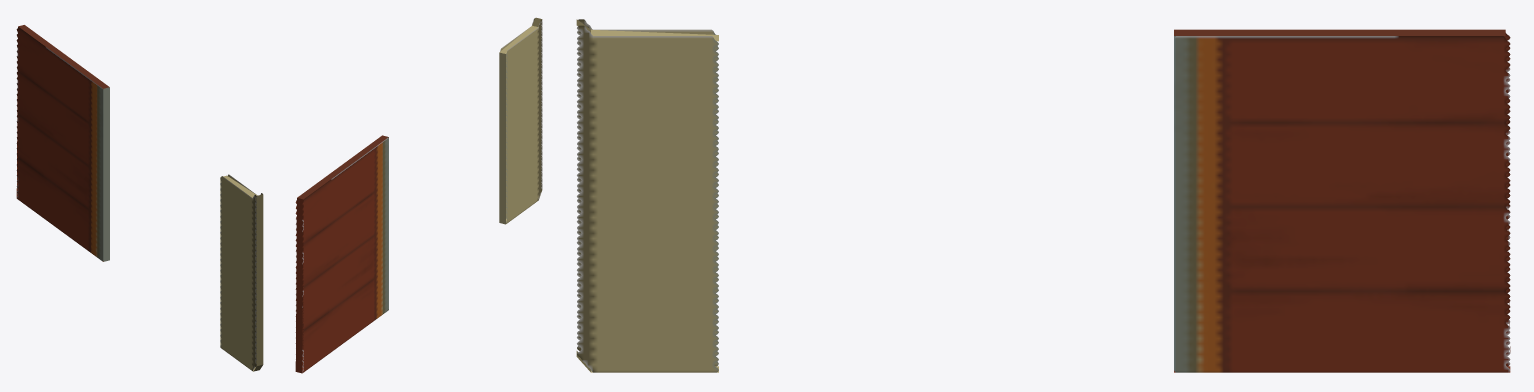
The model's file is pz_native_location_restaurant_spiffos_01_13_frame.obj.
3 views of the same model, side by side, from view 1: azimuth 30°, elevation 25°; view 2: azimuth 150°, elevation 25°; view 3: azimuth 270°, elevation 25° (orthographic). The views are drawn at different scales.
Visible parts, largest first — view 1: pz_native_location_restaurant_spiffos_01_13_frame; view 2: pz_native_location_restaurant_spiffos_01_13_frame; view 3: pz_native_location_restaurant_spiffos_01_13_frame.
Part boxes in pixels (bbox=[...]): pz_native_location_restaurant_spiffos_01_13_frame: bbox=[16, 25, 263, 371]; pz_native_location_restaurant_spiffos_01_13_frame: bbox=[295, 17, 542, 373]; pz_native_location_restaurant_spiffos_01_13_frame: bbox=[576, 19, 1510, 372].
Size of the model in its own units: 0.04 by 1.06 by 2.55.
Materials: 1 (1 with a texture image).
